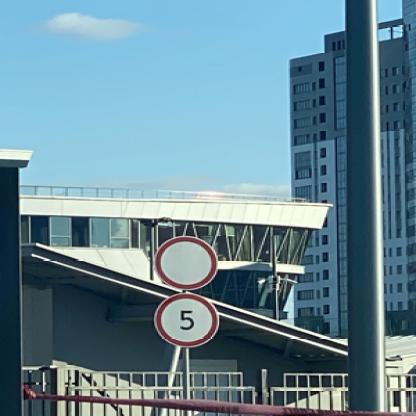speedlimit: (151, 291, 215, 345)
